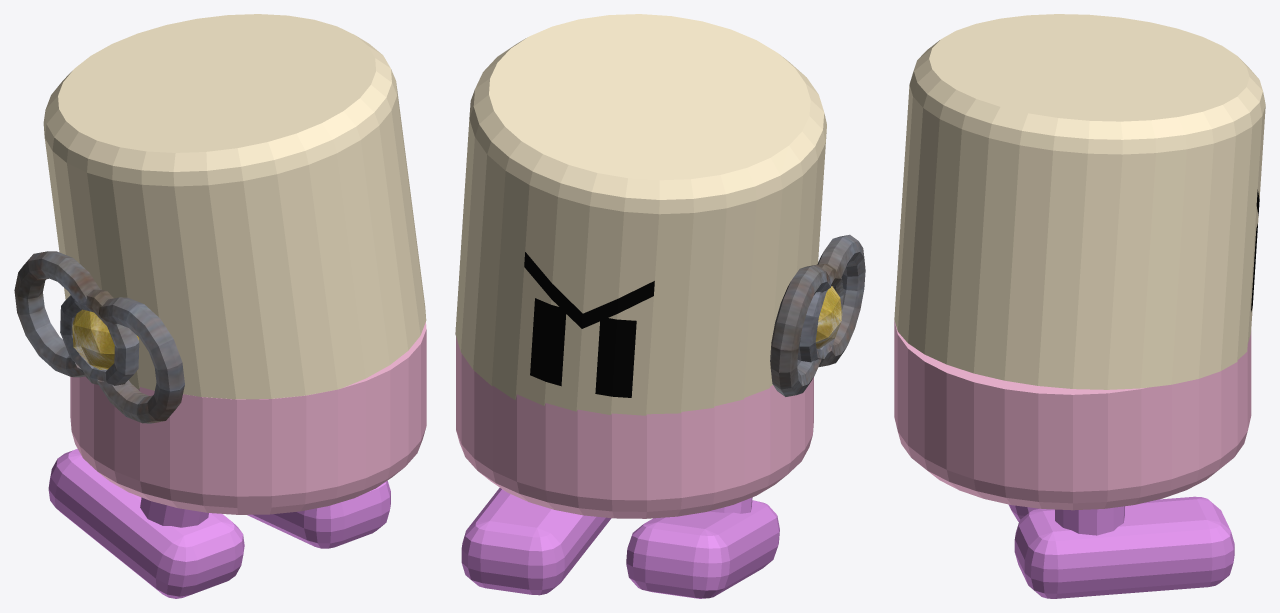
The model's file is Toasters079.obj.
3 views of the same model, side by side, from view 1: azimuth 30°, elevation 25°; view 2: azimuth 150°, elevation 25°; view 3: azimuth 270°, elevation 25° (orthographic).
Parts seen in each view (by area): view 1: Head, Jaw, WindupKey, LeftLeg, RightLeg; view 2: Head, Jaw, LeftLeg, RightLeg, WindupKey; view 3: Head, Jaw, RightLeg.
Boxes of the visible parts, x1,y1,x2,y2 form: Head: (43,14,426,399); Jaw: (70,322,426,514); WindupKey: (14,251,184,423); LeftLeg: (48,449,244,598); RightLeg: (247,481,390,548); Head: (455,14,826,415); Jaw: (456,337,813,518); LeftLeg: (626,497,779,598); RightLeg: (461,488,611,595); WindupKey: (770,234,865,396); Head: (894,14,1265,389); Jaw: (894,320,1251,510); RightLeg: (1014,496,1234,598).
Size of the model in its own units: 114 by 151 by 104.
6 materials, 2 textured.
